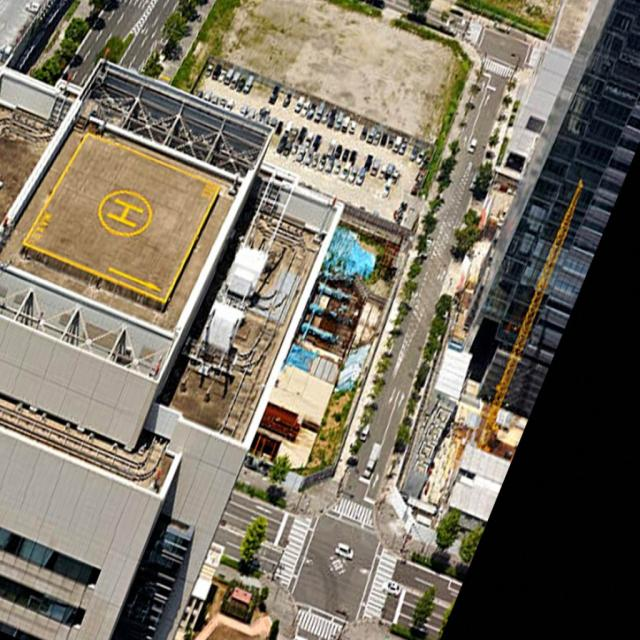helipad: (94, 187, 154, 240)
